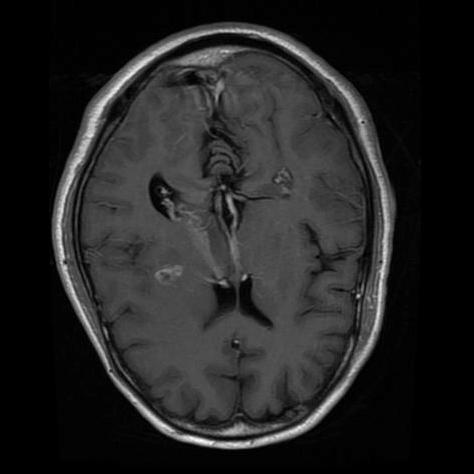Tumour-Glioma: (88, 221, 189, 299)
